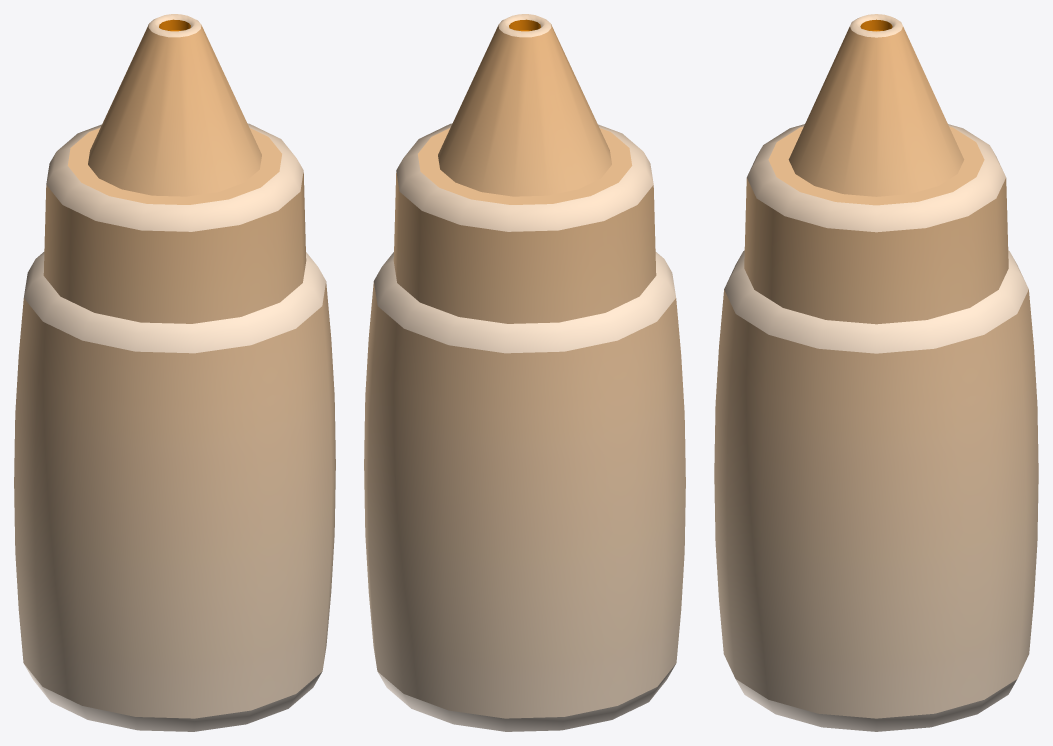
Rendered from Sauce_Mayonnaise_V1_00.fbx.
3 views of the same model, side by side, from view 1: azimuth 30°, elevation 25°; view 2: azimuth 150°, elevation 25°; view 3: azimuth 270°, elevation 25° (orthographic).
Parts seen in each view (by area): view 1: Sauce_Mayonnaise_V1_00; view 2: Sauce_Mayonnaise_V1_00; view 3: Sauce_Mayonnaise_V1_00.
Boxes of the visible parts, x1,y1,x2,y2 form: Sauce_Mayonnaise_V1_00: (14,14,335,731); Sauce_Mayonnaise_V1_00: (364,14,685,731); Sauce_Mayonnaise_V1_00: (714,14,1038,731).
Size of the model in its own units: 24.27 by 54.17 by 24.27.
